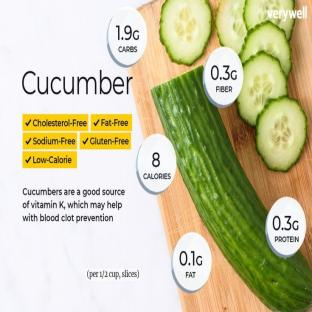Cucumber: (152, 67, 311, 311), (256, 97, 306, 171), (237, 52, 287, 126), (240, 22, 292, 77), (215, 0, 247, 54)
